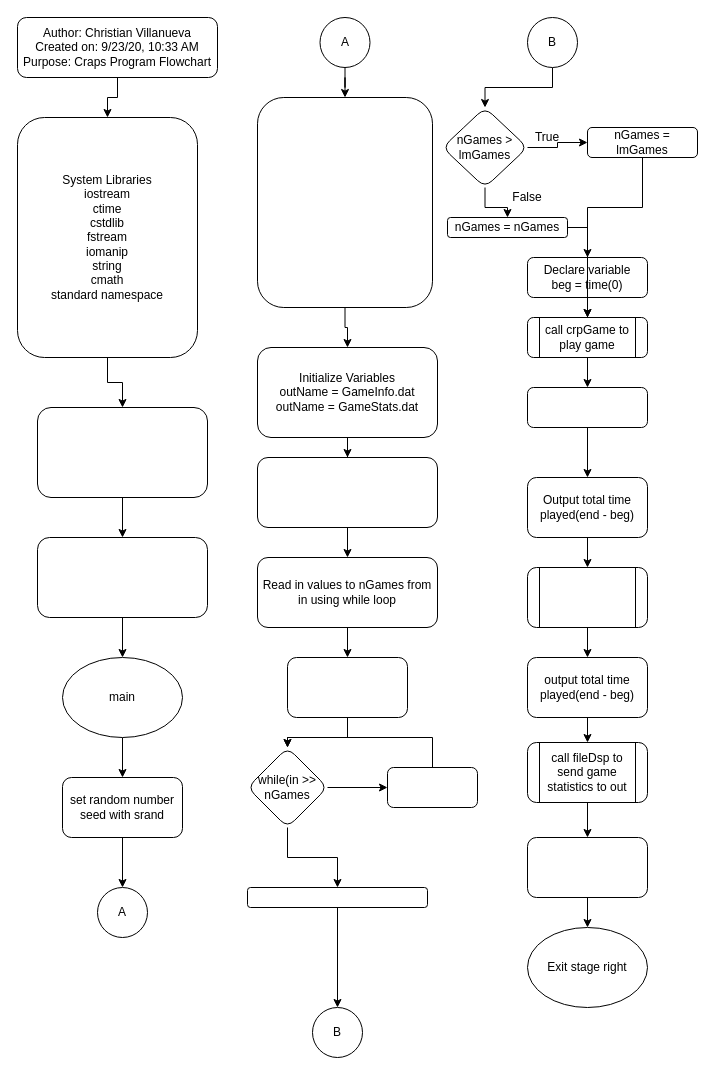
The diagram is 715 pixels wide and 1075 high, and some of its shapes have lost their labels. Here are the shapes that lost their labels. From the top down, the box of each, then its label:
(256, 96, 432, 308): Declare Variables in out nGames mxThrw numthrw lmGames SIZE wins losses
(526, 386, 648, 428): Declare Variable end = time(0)
(36, 406, 208, 498): Global Constants PERCENT = 100.0f
(256, 456, 438, 528): open the in and out files
(36, 536, 208, 618): Function Prototypes rollDie FileDsp crpGame
(526, 566, 648, 628): call scrnDsp to display game statistics
(286, 656, 408, 718): set limit of nGames to lmGames
(386, 766, 478, 808): in is read into nGames
(526, 836, 648, 898): Close the files
(246, 886, 428, 908): limit bGames to lmGames
